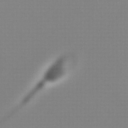normal: (1, 77, 47, 128)
